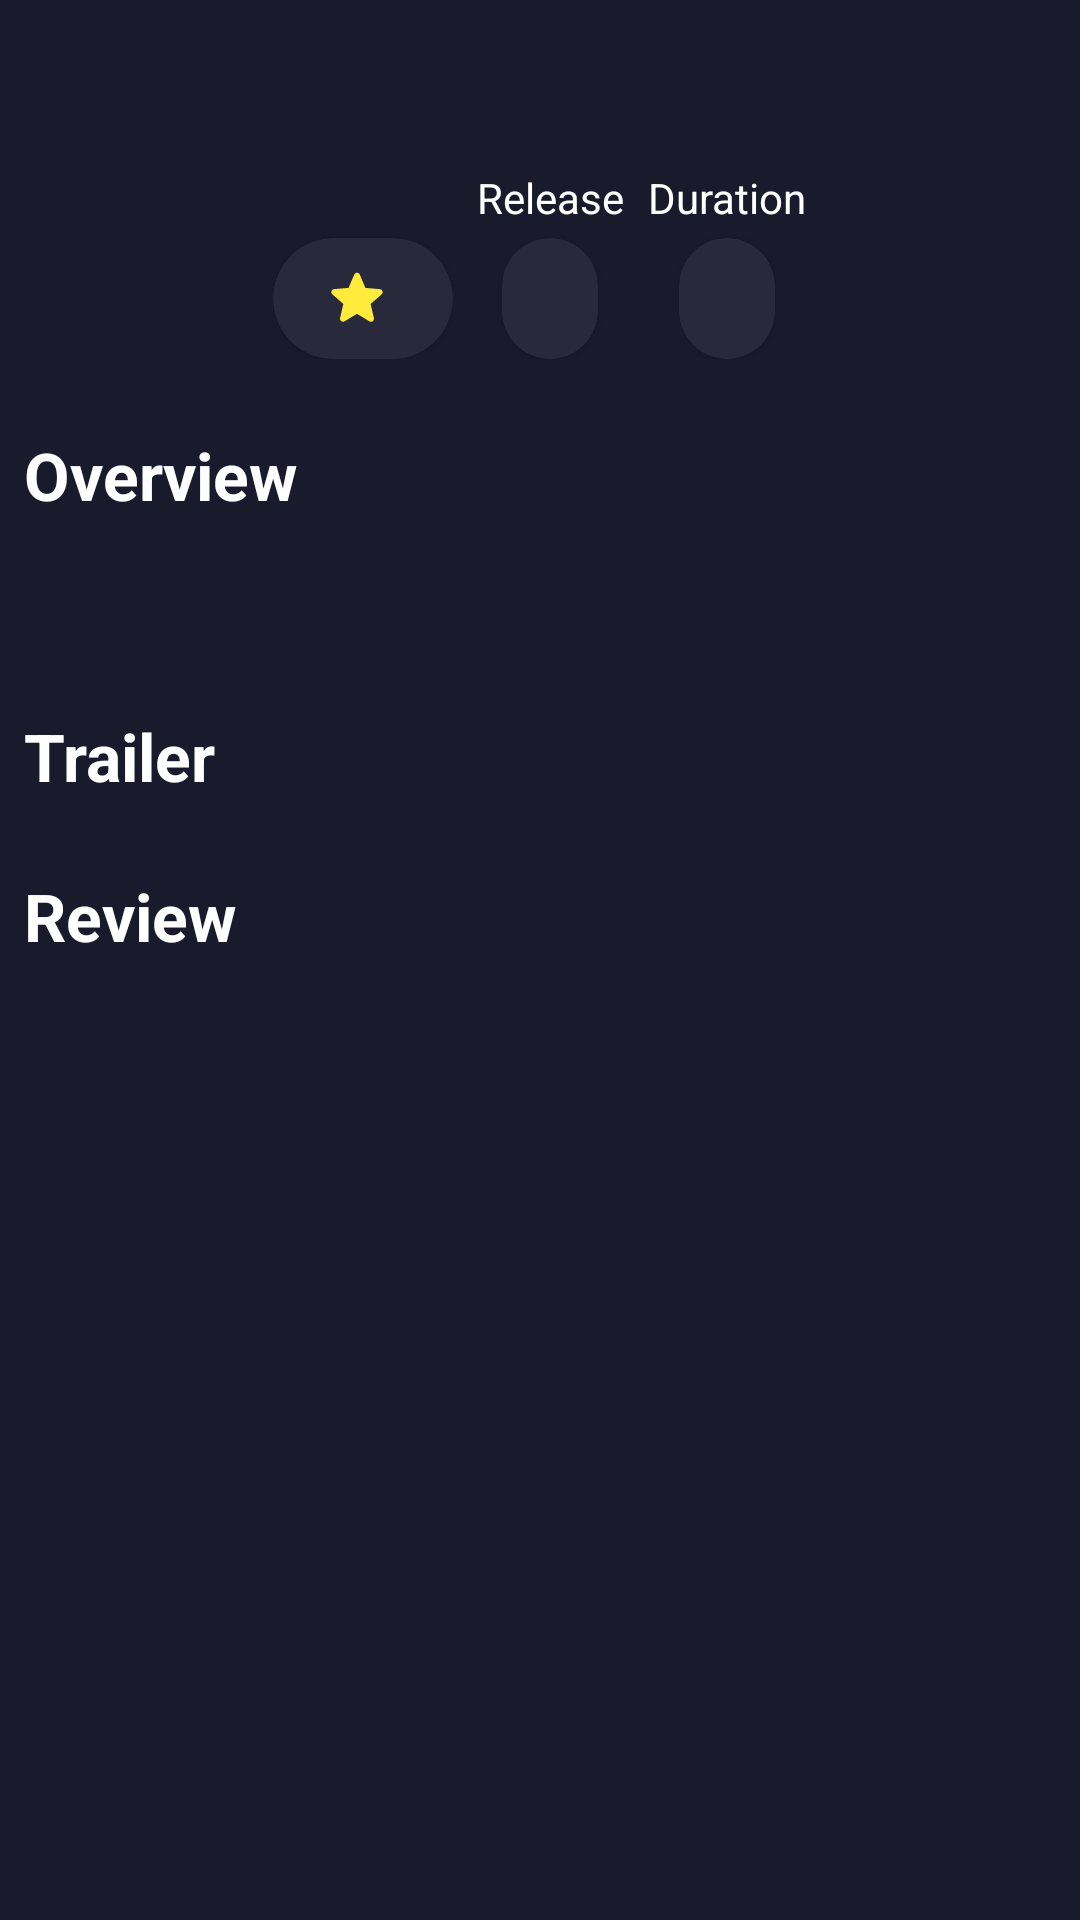

Named icons in this screenshot (1080px×1920px) and their bounding boxes, [x1=x1, y1=y1, x2=x2, y2=y2]:
star: [x1=331, y1=272, x2=383, y2=322]
